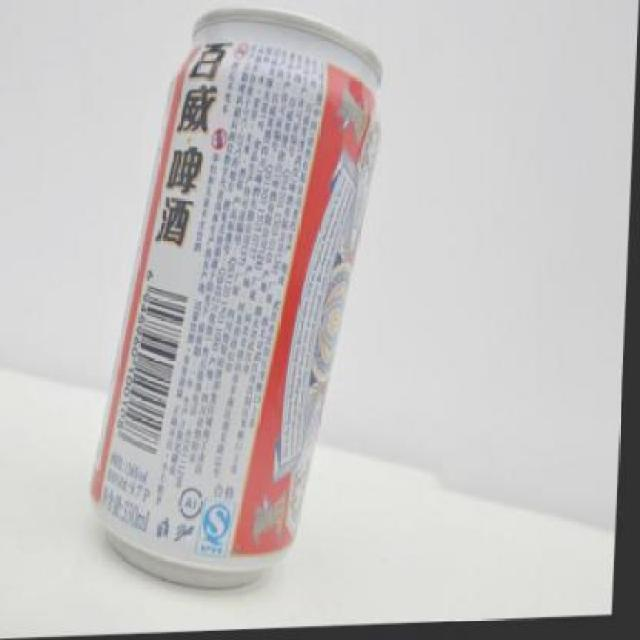Metal: (85, 5, 388, 592)
